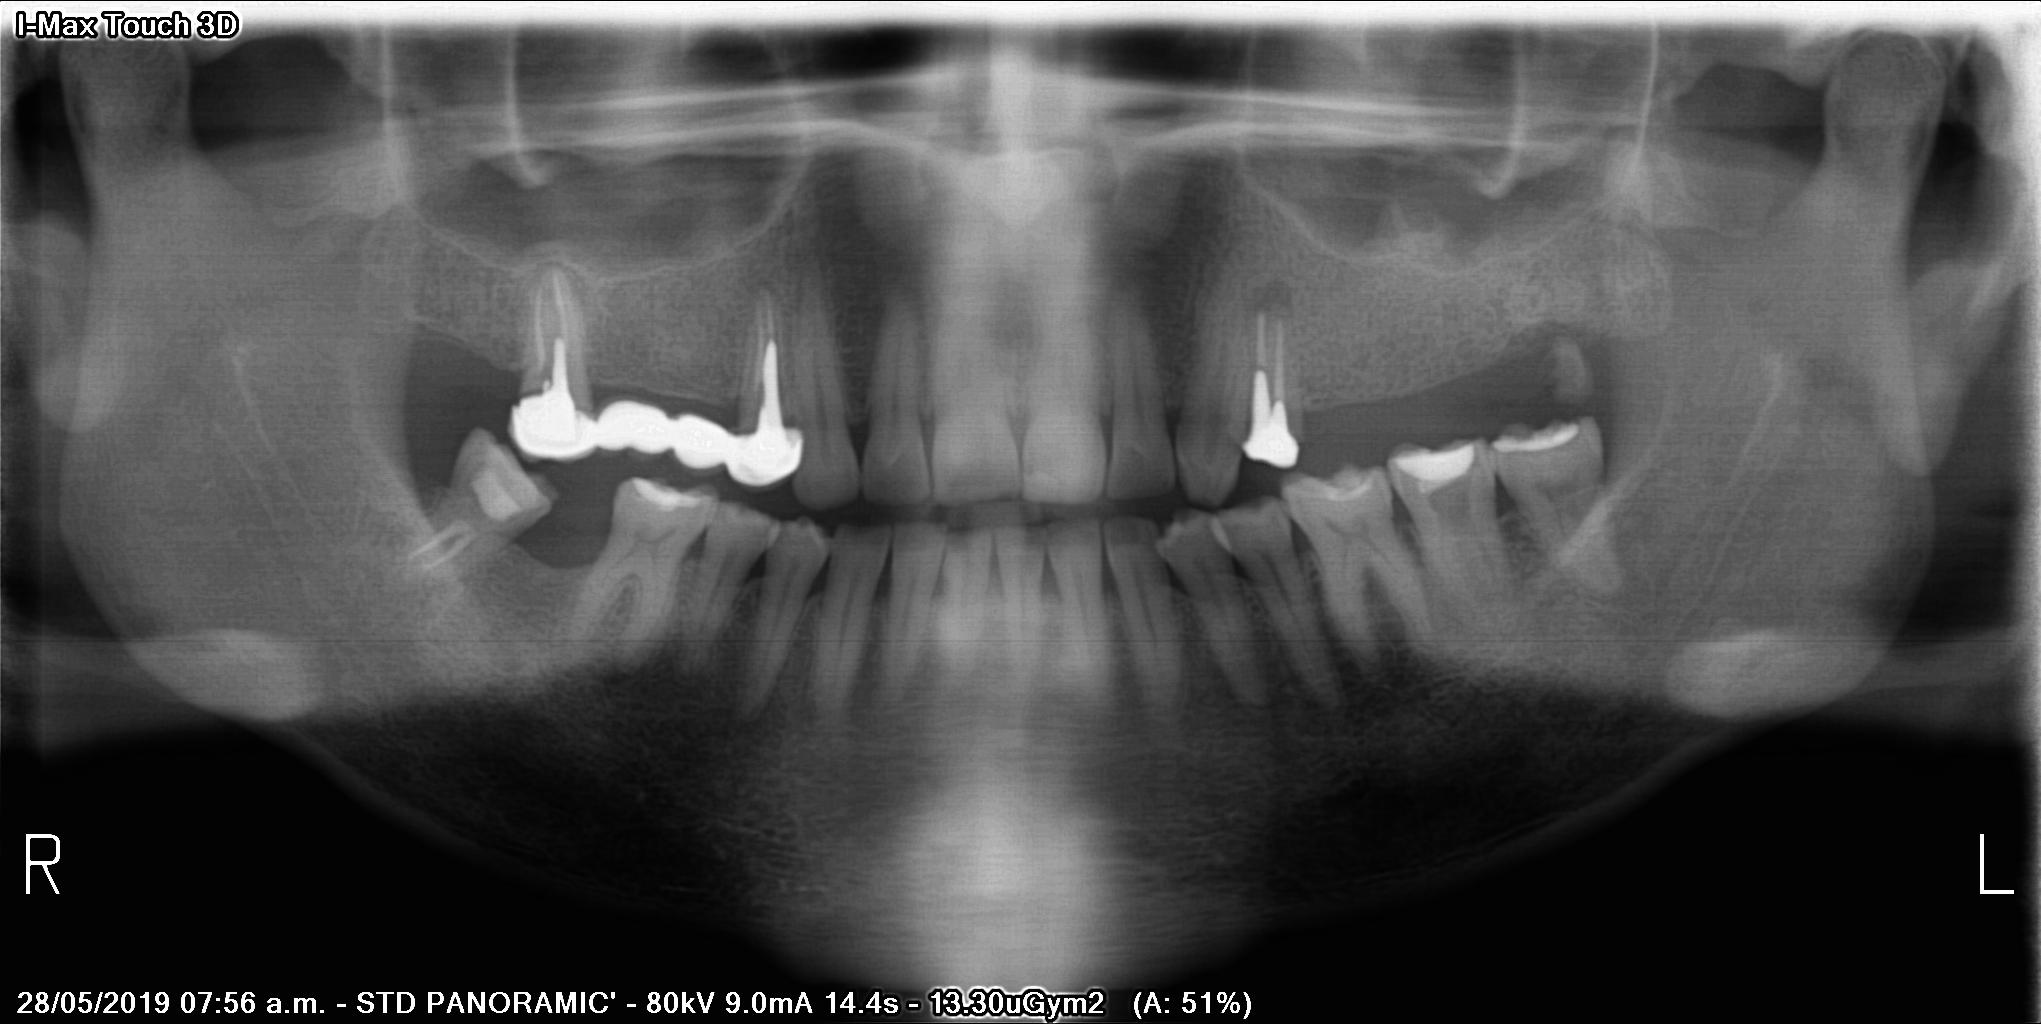Çürük: (469, 441, 550, 525), (509, 397, 594, 461), (1494, 413, 1601, 462), (1389, 445, 1499, 494), (733, 427, 803, 491), (1237, 404, 1303, 470), (631, 470, 712, 515)
Çürük Bölgesi: (780, 404, 810, 440)
